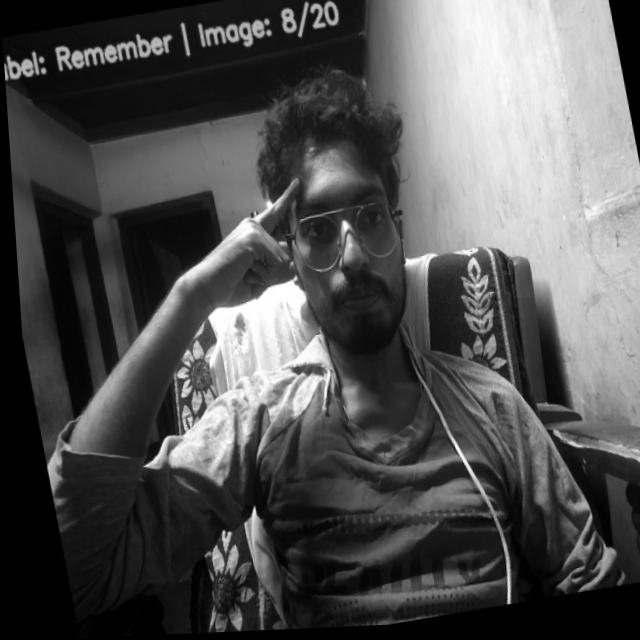Remember: (180, 176, 319, 317)
